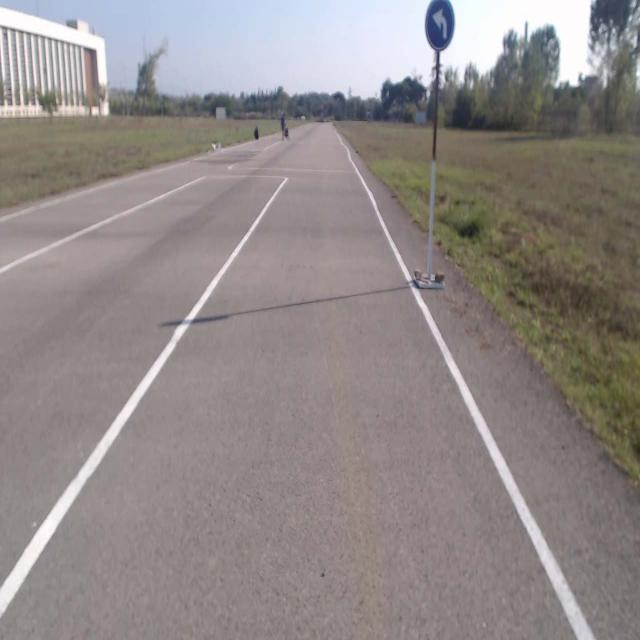sol: (425, 1, 455, 51)
